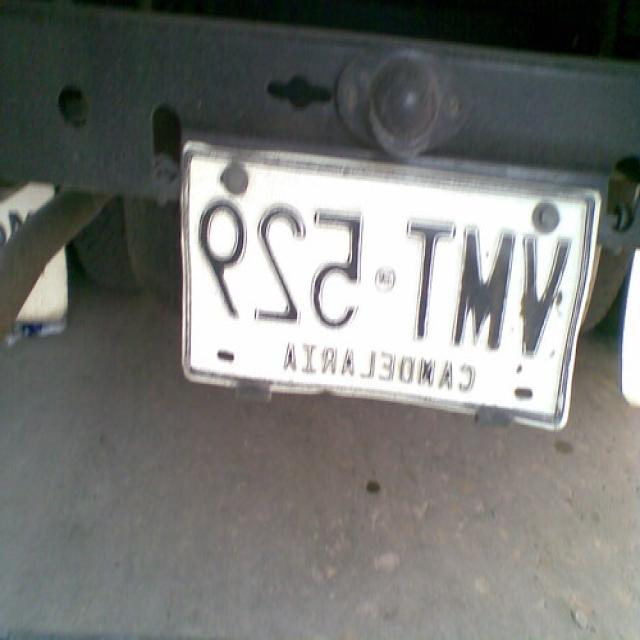placas: (193, 154, 593, 359)
